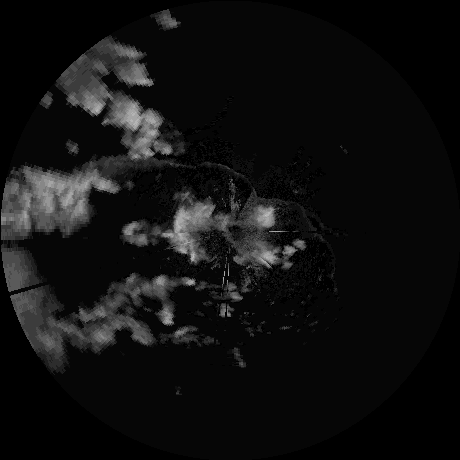frontgust: (148, 159, 254, 188), (266, 195, 324, 238)
